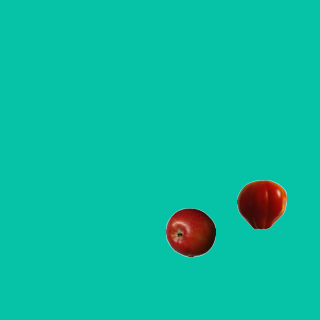Apple Braeburn: (165, 207, 215, 257)
Tomato 1: (236, 179, 286, 229)
